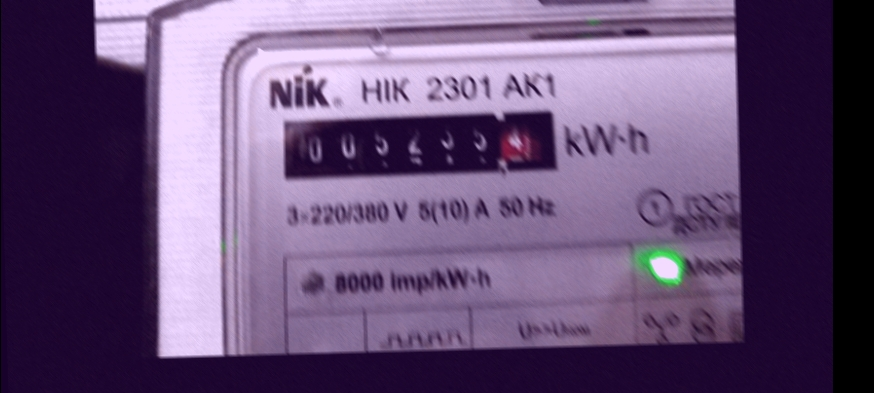0: (338, 128, 359, 162), (306, 133, 325, 164)
2: (404, 123, 426, 158)
3: (436, 120, 460, 154)
4: (505, 118, 527, 155)
5: (470, 118, 492, 155), (372, 125, 392, 159)
screen: (266, 97, 570, 192)
